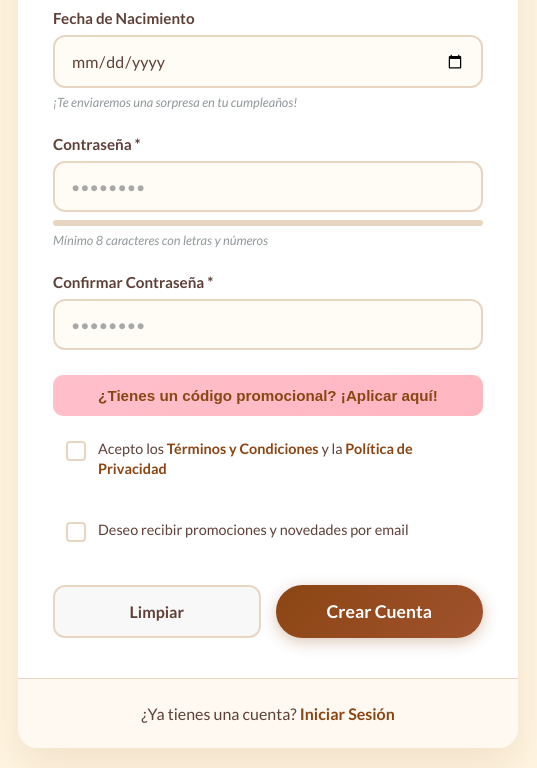
Test case: SignUp component › muestra errores si no se completan los campos obligatorios
The width and height of the screenshot is (537, 768).
(page scrolled)
Click the button "Crear Cuenta": click(379, 612) left=276, top=585, right=483, bottom=638
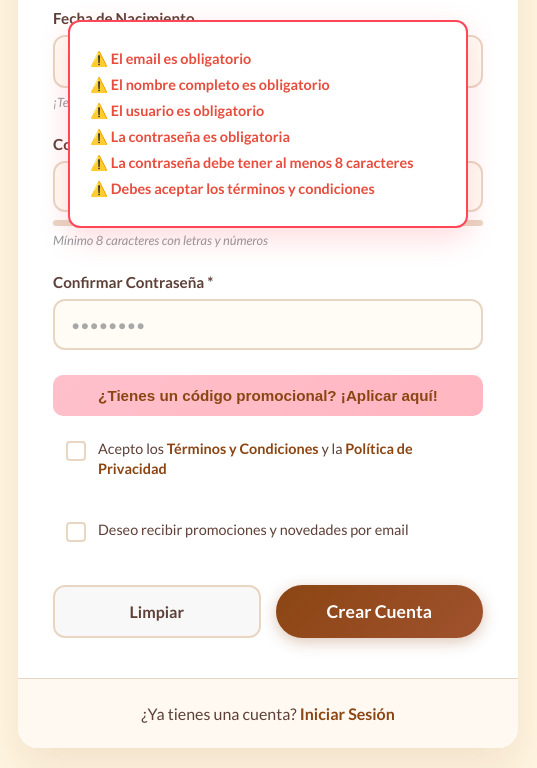
Now the text "⚠️ El email es obligatorio" is shown, box left=90, top=50, right=251, bottom=67
Now the text "⚠️ El nombre completo es obligatorio" is shown, box left=90, top=76, right=330, bottom=93
Now the text "⚠️ El usuario es obligatorio" is shown, box left=90, top=102, right=264, bottom=119
